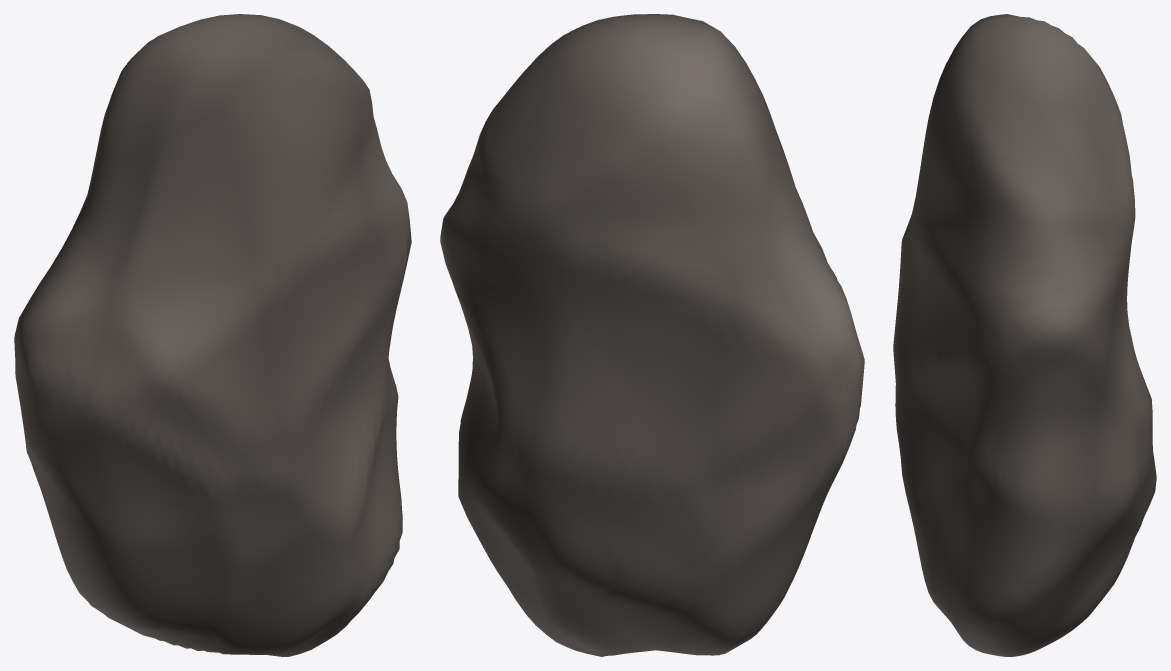
The model's file is Rock.001.fbx.
3 renders of one model, left to right at view 1: azimuth 30°, elevation 25°; view 2: azimuth 150°, elevation 25°; view 3: azimuth 270°, elevation 25°, orthographic. The views are drawn at different scales.
Visible parts, largest first — view 1: rock.001; view 2: rock.001; view 3: rock.001.
Boxes of the visible parts, x1=… form: rock.001: x1=14, y1=14, x2=411, y2=656; rock.001: x1=440, y1=14, x2=864, y2=656; rock.001: x1=893, y1=14, x2=1156, y2=656.
Bounding box in the file's own units: 365 × 570 × 228.
1 material, 1 textured.
